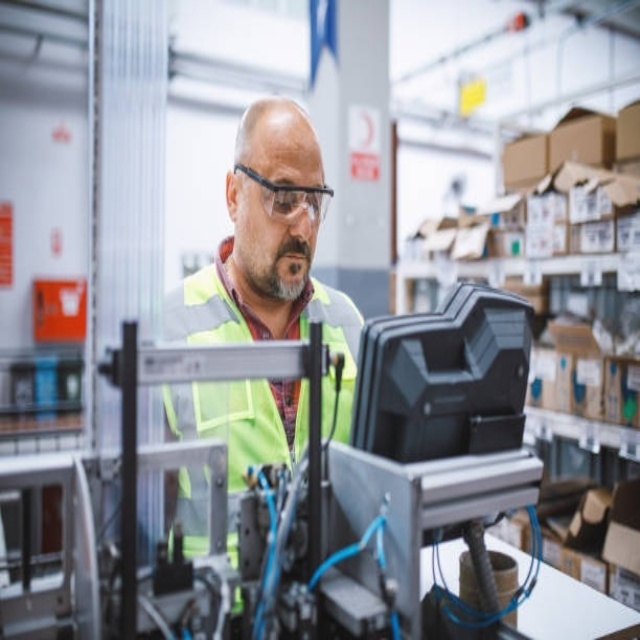Gafas: (235, 165, 334, 226)
Sin_mascara: (270, 240, 314, 281)
